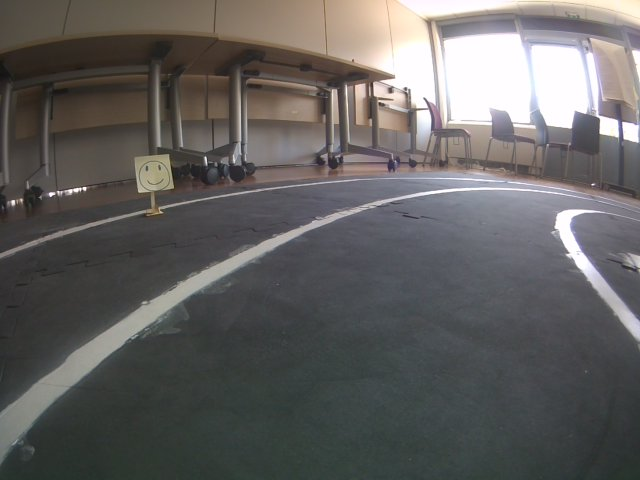Smiley: (132, 154, 176, 193)
